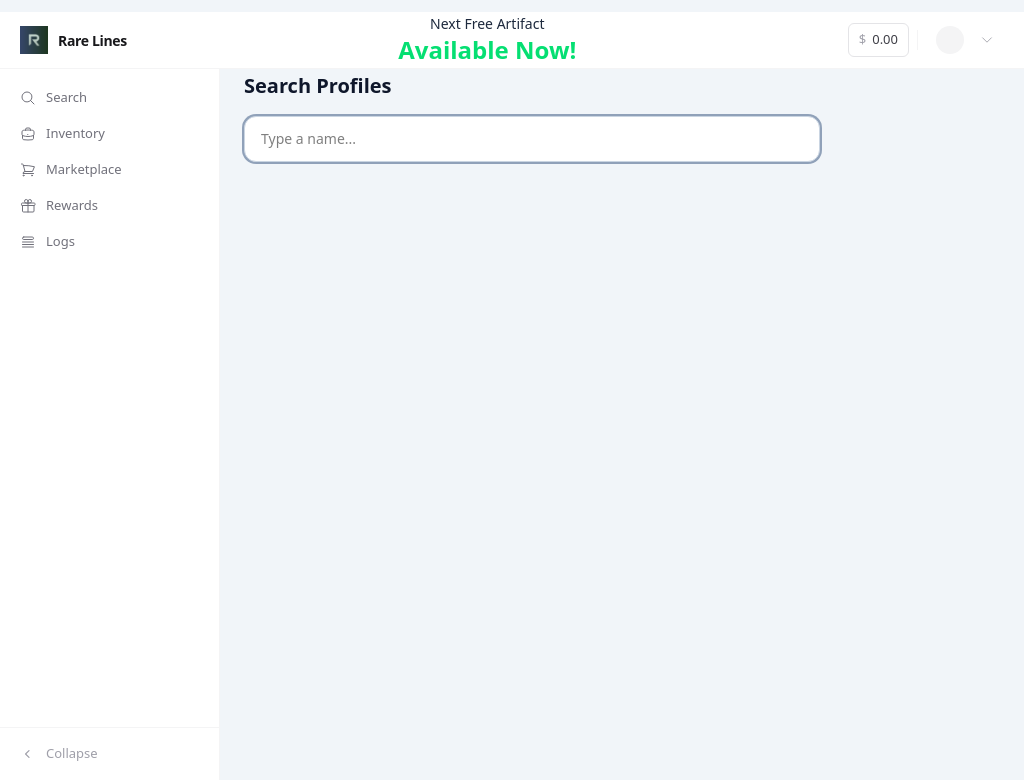
Test case: SearchPage › shows the empty state and search errors
This screenshot has width=1024, height=780.
In the field with placeholder "Type a name...": (532, 139) [244, 116, 820, 162], type "ghost"
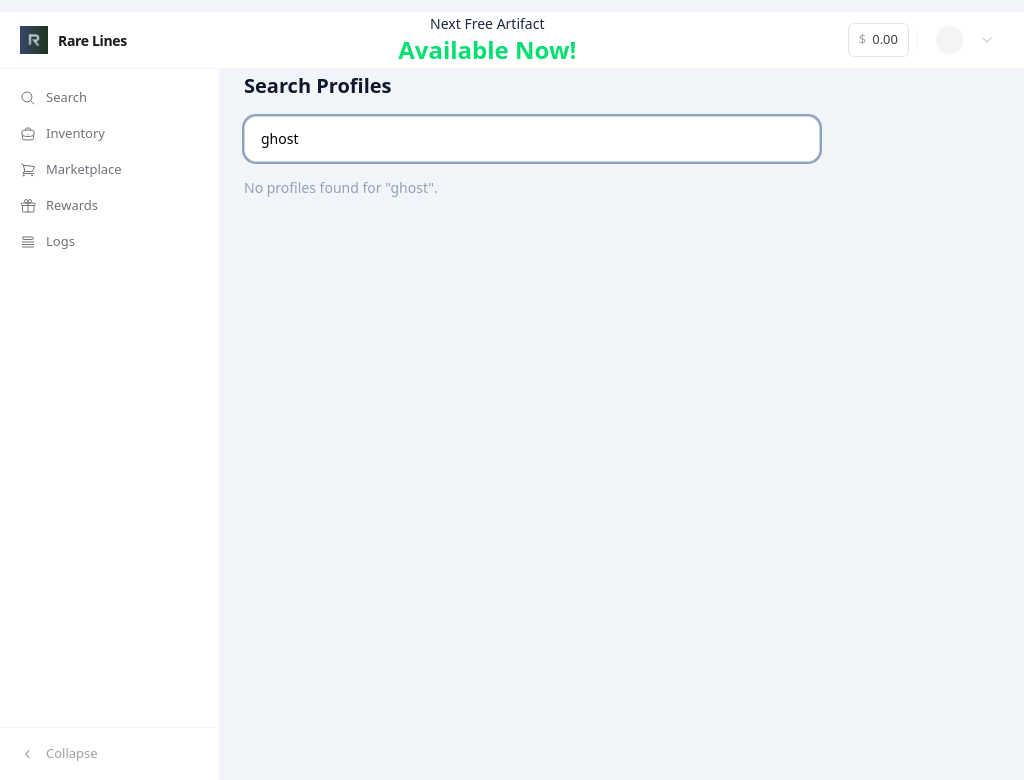
expect the text "No profiles found for \"ghost\"." is shown: met, box [244, 178, 438, 197]
